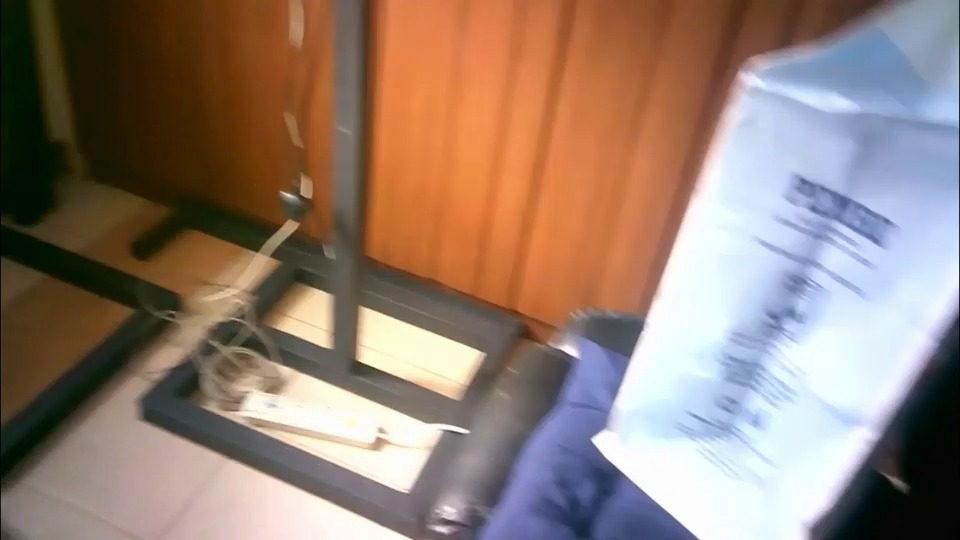wheat_flour_blue_label: (598, 7, 955, 539)
